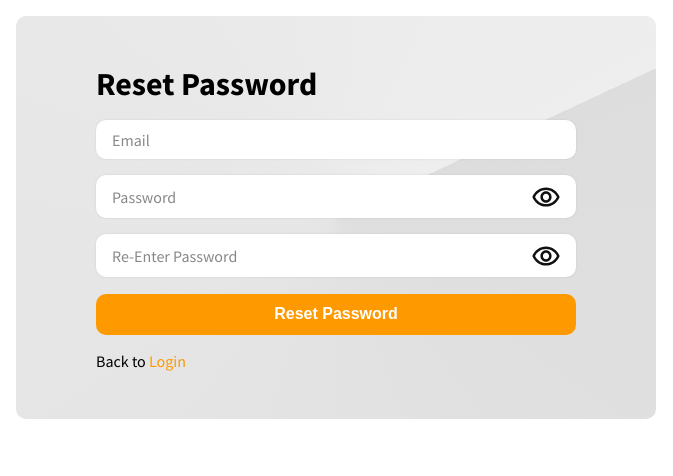
Scenario: ResetPassword component › should validate password input
Type "invalid-password" into the password field with placeholder "Password" at (314, 197), box [112,187,516,207]
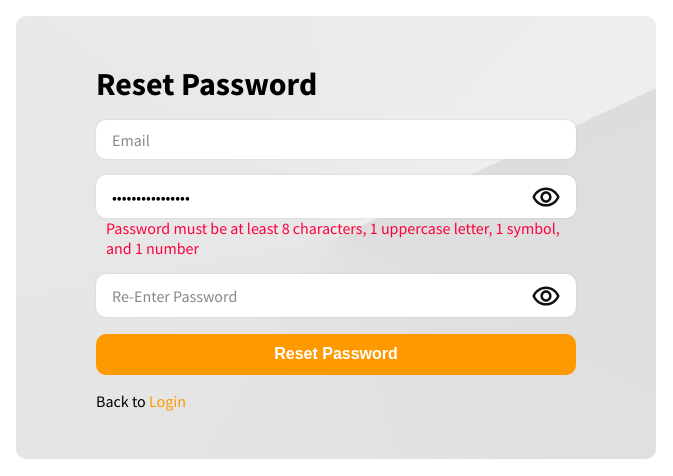
Expected: the text "Password must be at least 8 characters, 1 uppercase letter, 1 symbol, and 1 number" is shown, [106,218,560,258]
